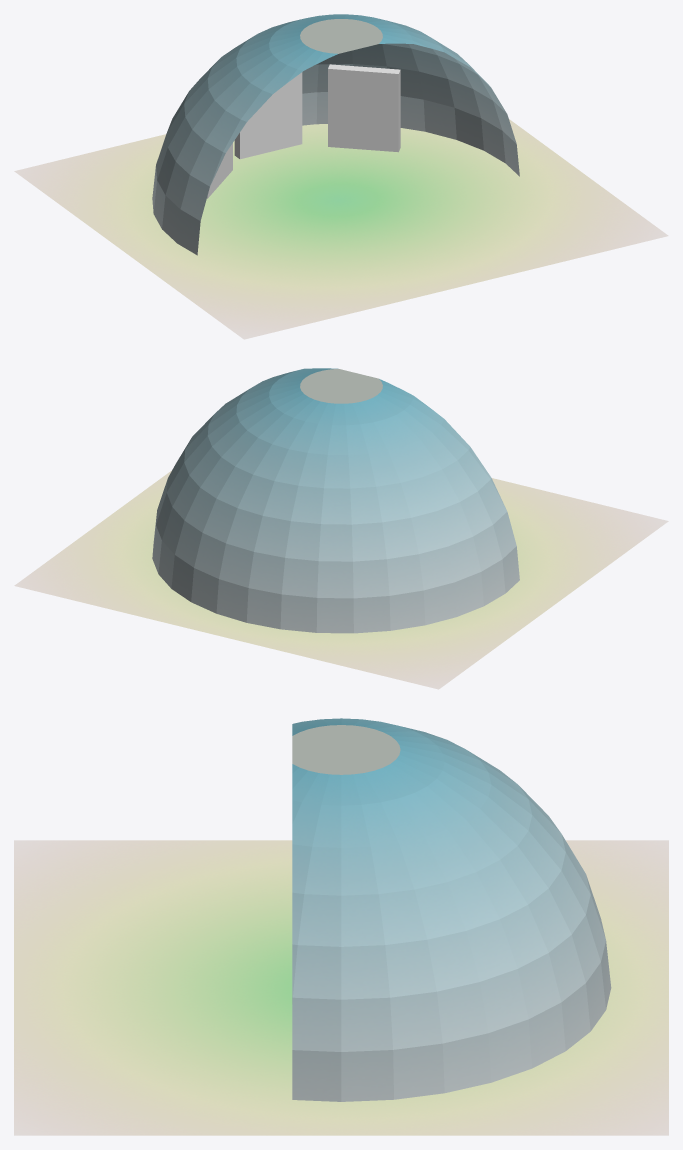
File: CV_Room.glb
3 views of the same model, one above another, from view 1: azimuth 30°, elevation 25°; view 2: azimuth 150°, elevation 25°; view 3: azimuth 270°, elevation 25° (orthographic). The views are drawn at different scales.
Visible parts, largest first — view 1: CV_Floor, CV_SKY, Left_CV_Monolith.001, Center_CV_Monolith, Left_CV_Monolith; view 2: CV_SKY, CV_Floor; view 3: CV_Floor, CV_SKY.
Boxes of the visible parts, left/top/right/bottom form: CV_Floor: left=14, top=119, right=668, bottom=339; CV_SKY: left=152, top=14, right=519, bottom=255; Left_CV_Monolith.001: left=328, top=64, right=400, bottom=152; Center_CV_Monolith: left=234, top=72, right=302, bottom=159; Left_CV_Monolith: left=207, top=143, right=232, bottom=198; CV_SKY: left=152, top=368, right=519, bottom=633; CV_Floor: left=14, top=470, right=668, bottom=689; CV_Floor: left=14, top=840, right=668, bottom=1135; CV_SKY: left=292, top=718, right=611, bottom=1101.
Bounding box in the file's own units: 91.99 × 34.74 × 86.28.
3 materials, 2 textured.
